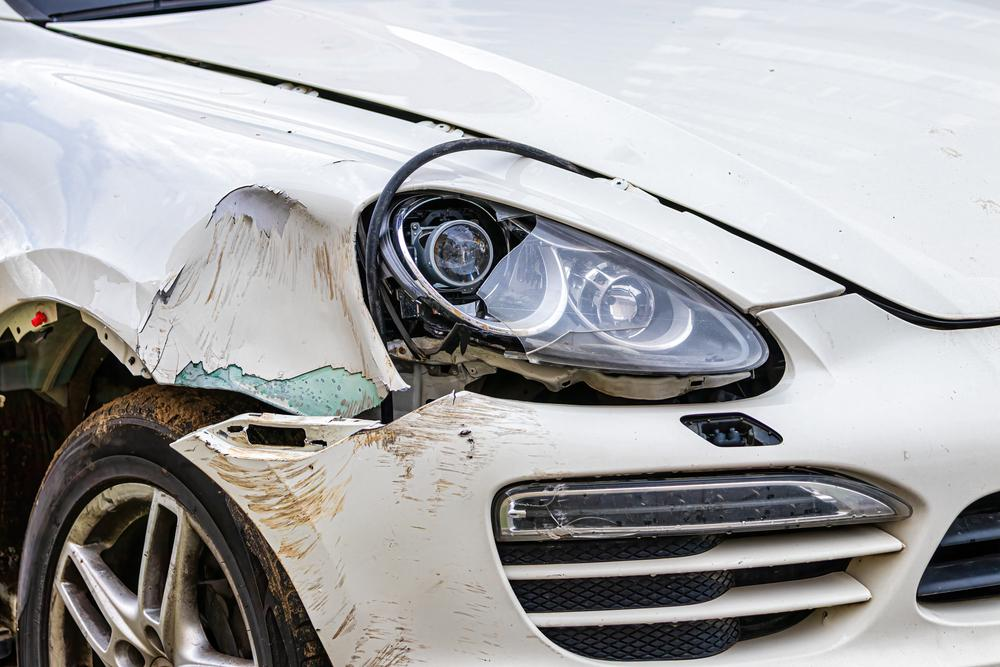dent: (130, 182, 398, 419)
lamp broken: (365, 193, 777, 395)
scratch: (189, 389, 570, 667)
